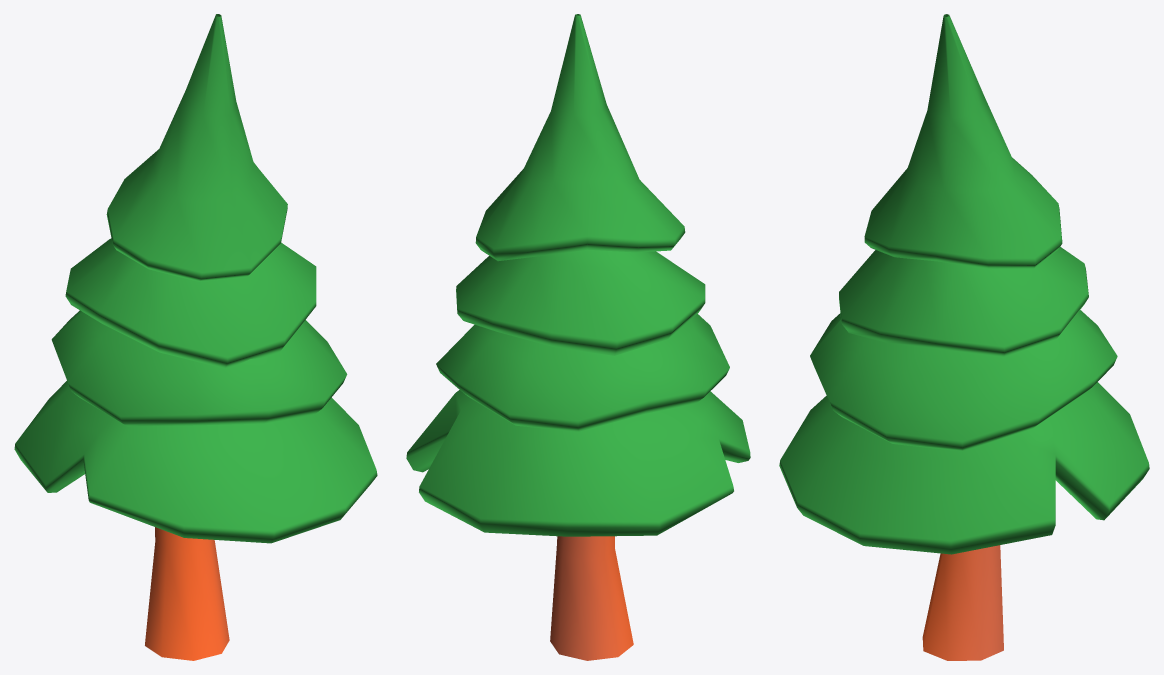
File: Pine_Tree.fbx
3 views of the same model, side by side, from view 1: azimuth 30°, elevation 25°; view 2: azimuth 150°, elevation 25°; view 3: azimuth 270°, elevation 25° (orthographic). The views are drawn at different scales.
Parts seen in each view (by area): view 1: Pine_Tree; view 2: Pine_Tree; view 3: Pine_Tree.
Boxes of the visible parts, x1,y1,x2,y2 form: Pine_Tree: (14,14,377,660); Pine_Tree: (406,14,750,660); Pine_Tree: (779,14,1149,660).
Bounding box in the file's own units: 1.25 × 2.43 × 1.27.
